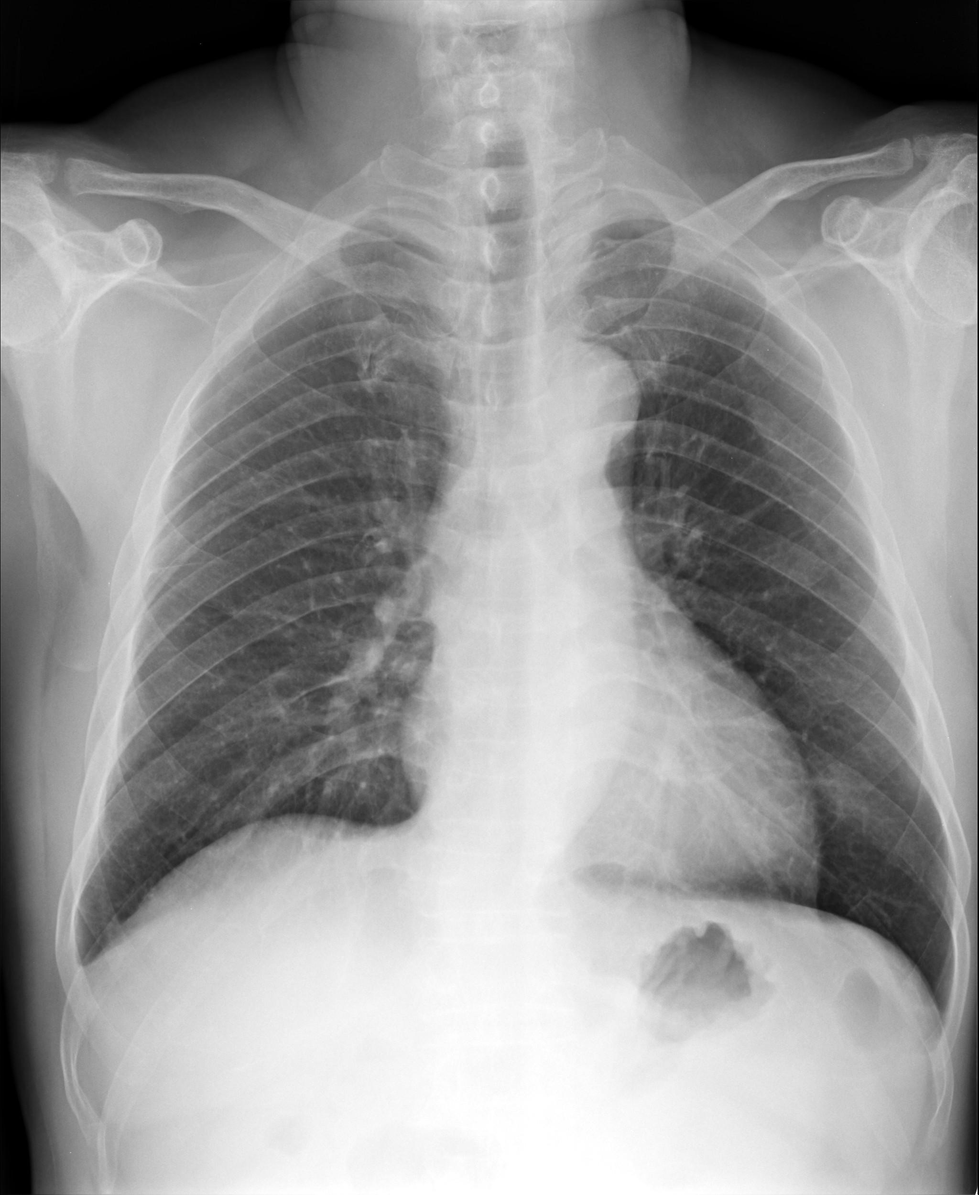Pleural thickening: (56, 926, 111, 993)
